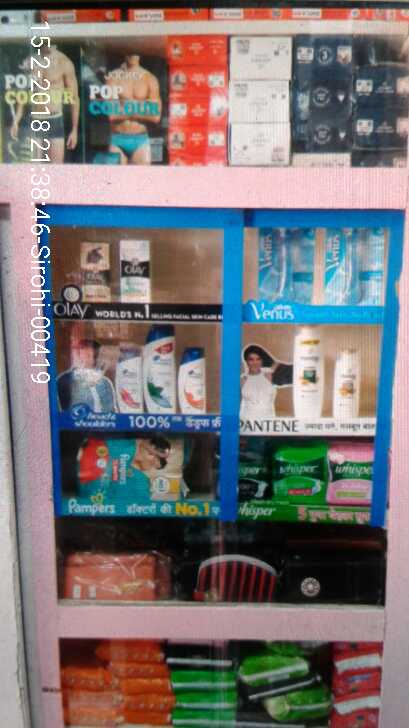venus: (323, 224, 385, 305), (261, 227, 310, 301)
